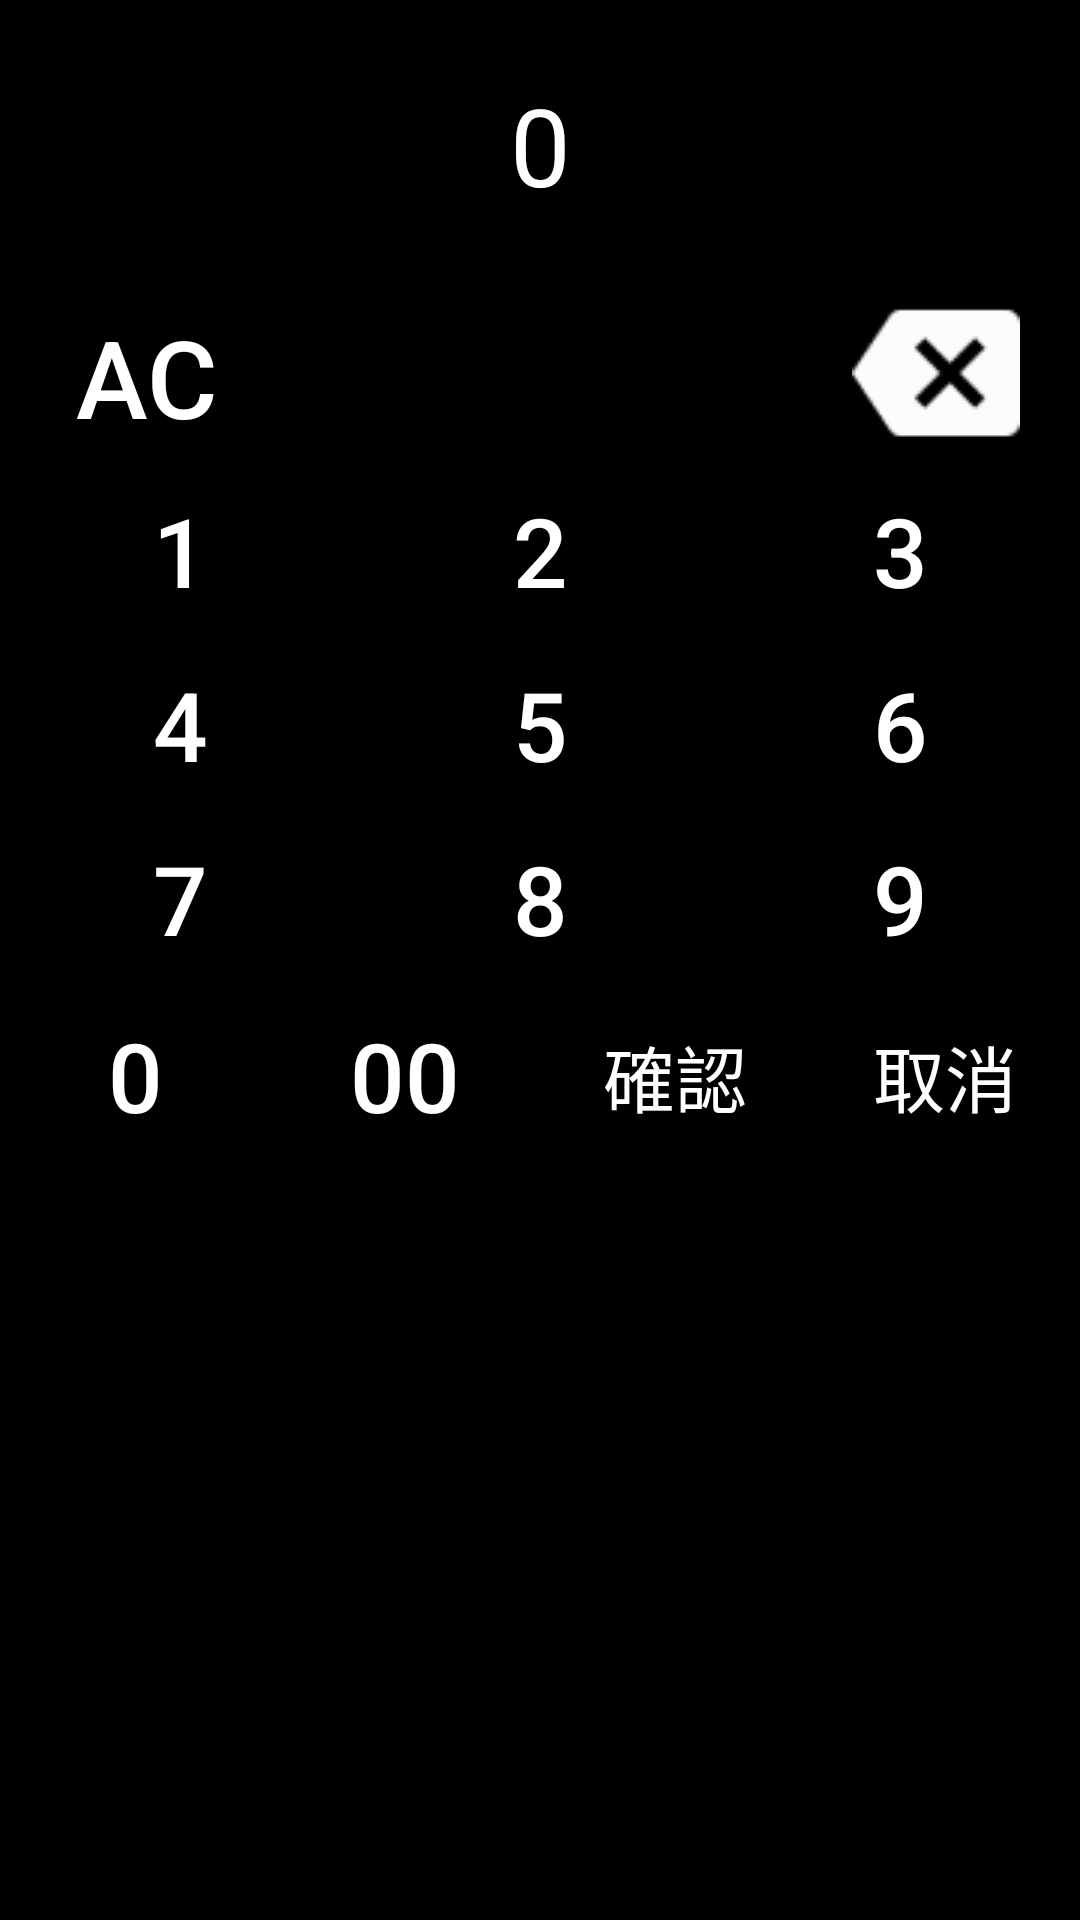

Named icons in this screenshot (1080w x 1920h) and their bounding boxes, (x1, y1, x2, y2):
backspace: (852, 309, 1020, 437)
